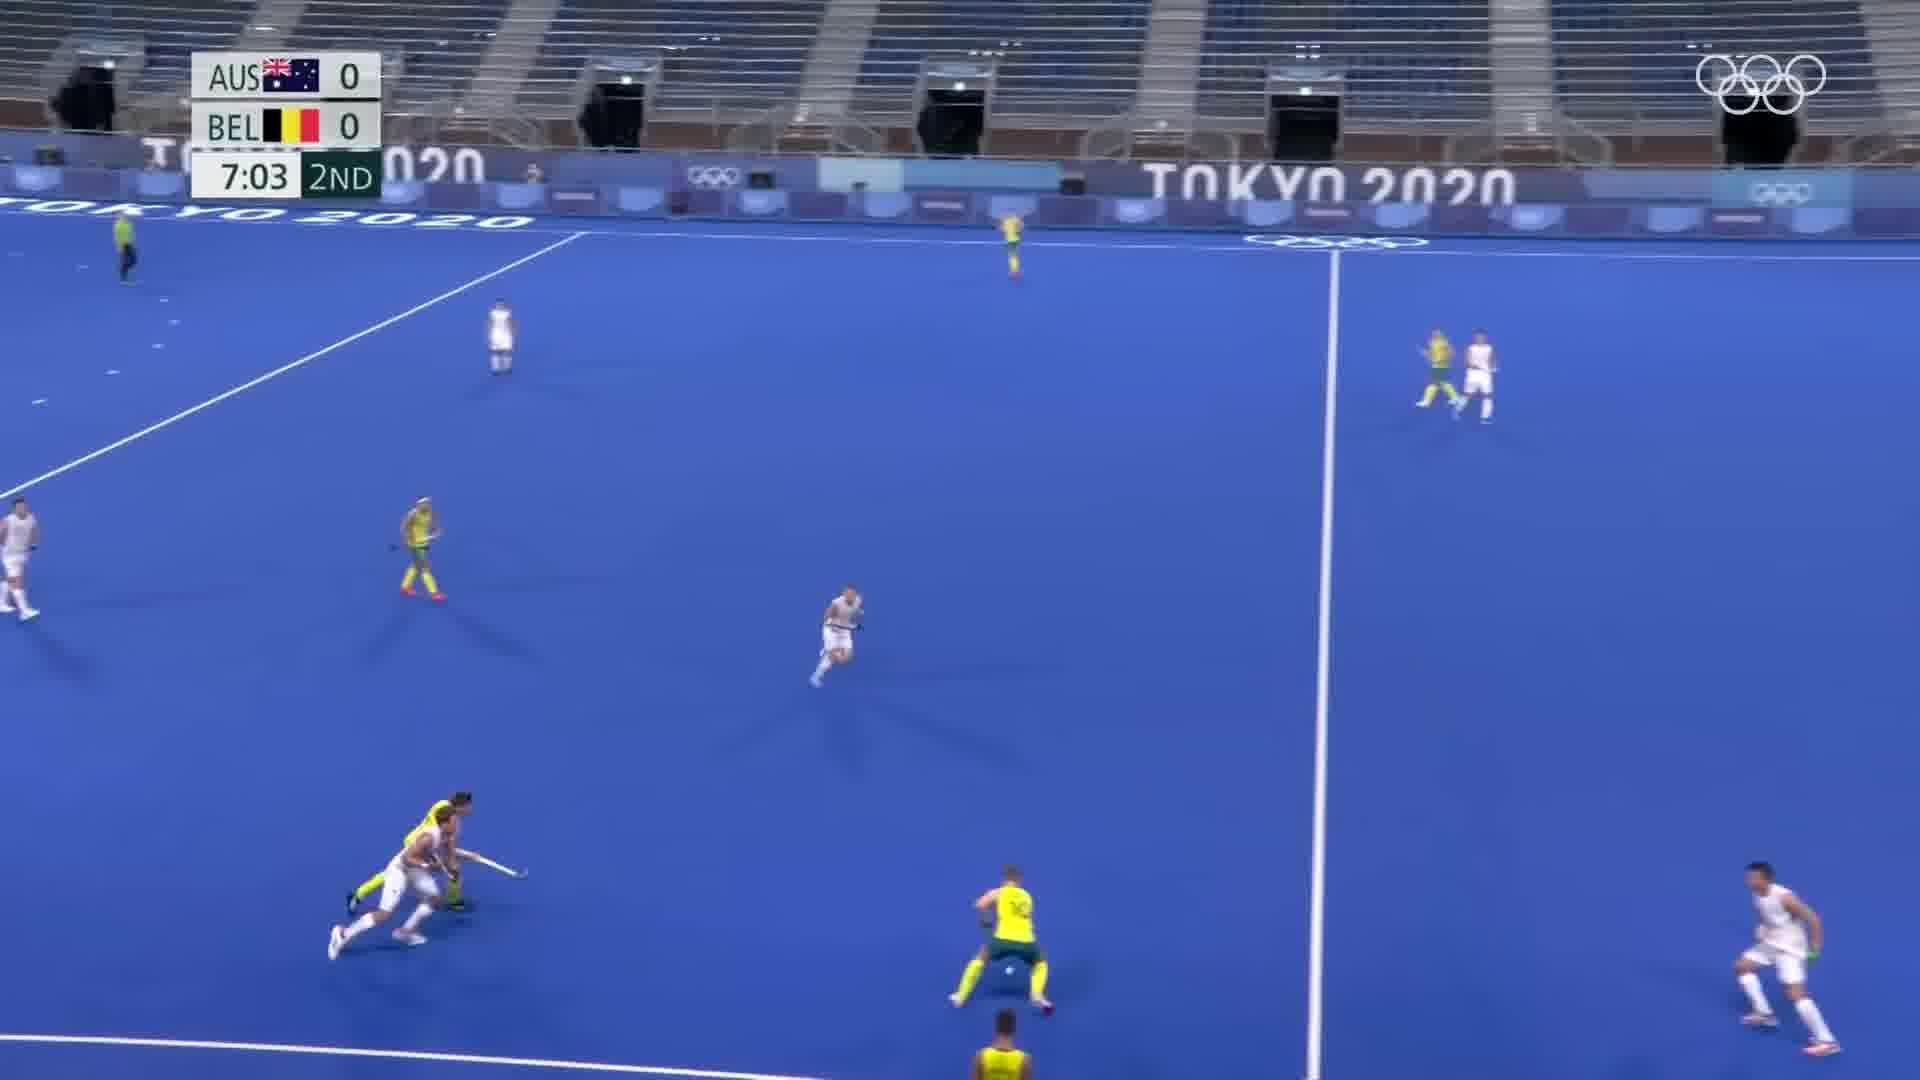ball: (994, 963, 1023, 982)
